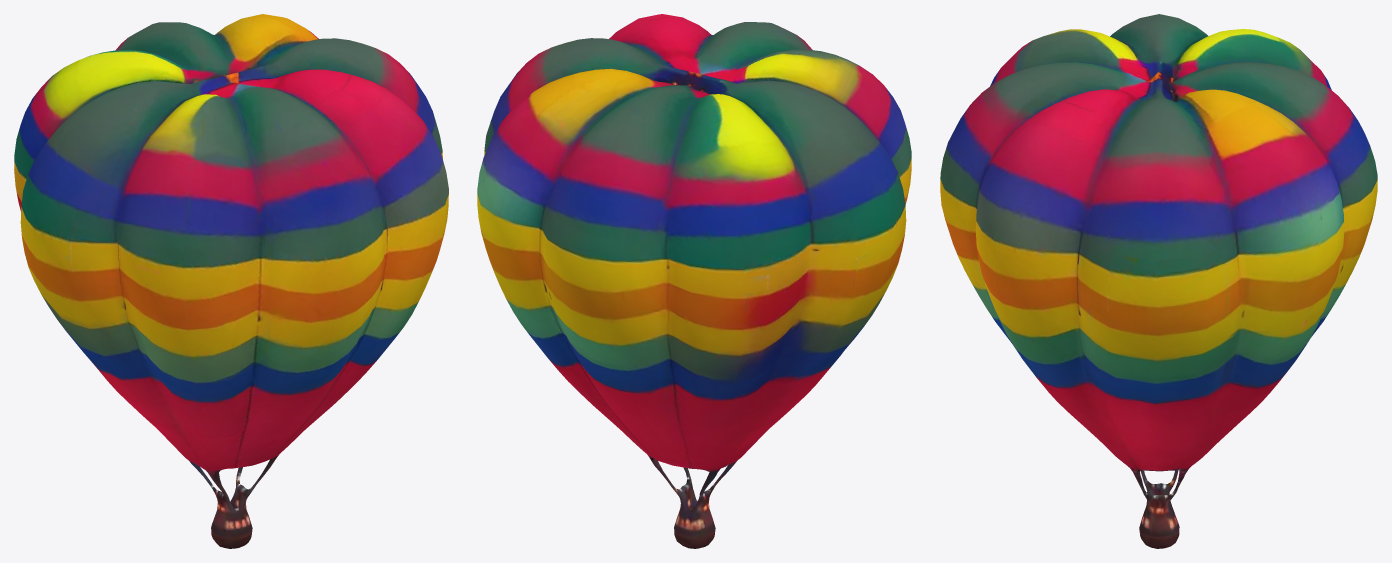
The model's file is balloon0.glb.
The picture shows the model from 3 angles, left to right: view 1: azimuth 30°, elevation 25°; view 2: azimuth 150°, elevation 25°; view 3: azimuth 270°, elevation 25°; orthographic projection.
Visible parts, largest first — view 1: model; view 2: model; view 3: model.
Boxes of the visible parts, <box> form: model: <box>14,14,448,548</box>; model: <box>477,14,911,548</box>; model: <box>940,14,1377,548</box>.
Bounding box in the file's own units: 1.47 × 1.72 × 1.42.
Materials: 1 (1 with a texture image).
